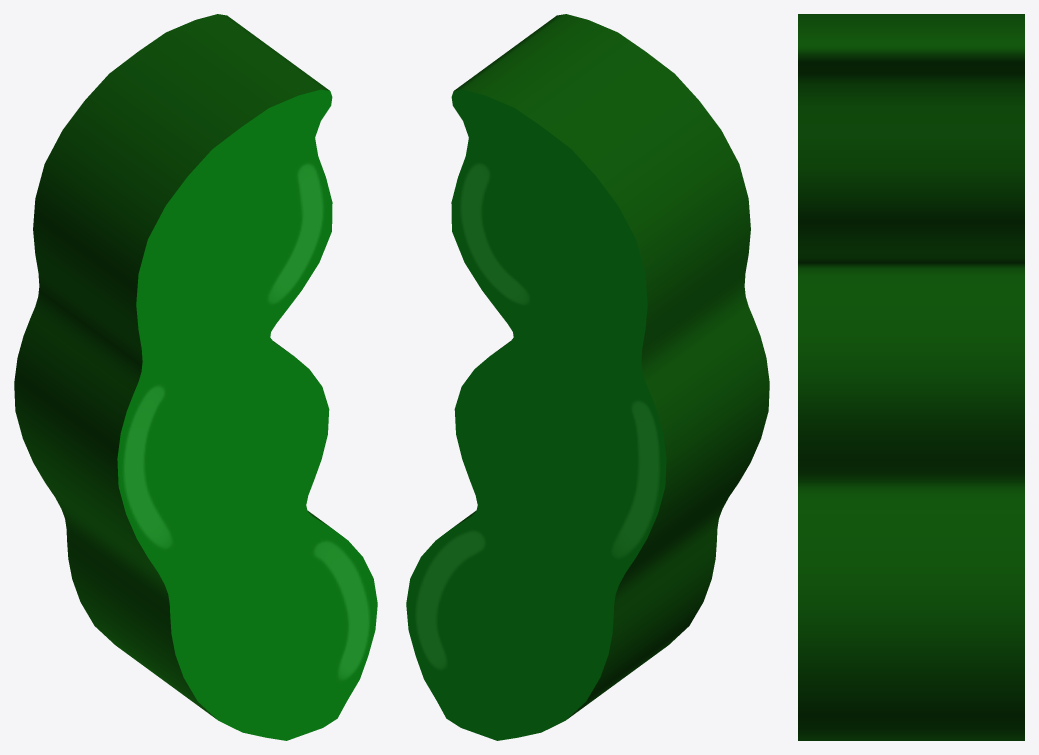
The model's file is mesh_Bean_v1.0.fbx.
3 views of the same model, side by side, from view 1: azimuth 30°, elevation 25°; view 2: azimuth 150°, elevation 25°; view 3: azimuth 270°, elevation 25° (orthographic). The views are drawn at different scales.
Parts seen in each view (by area): view 1: pCube35; view 2: pCube35; view 3: pCube35.
Part boxes in pixels (left/top/right/bottom): pCube35: left=14, top=14, right=377, bottom=740; pCube35: left=406, top=14, right=769, bottom=740; pCube35: left=798, top=14, right=1024, bottom=740.
Bounding box in the file's own units: 42.35 × 99.94 × 29.08.
